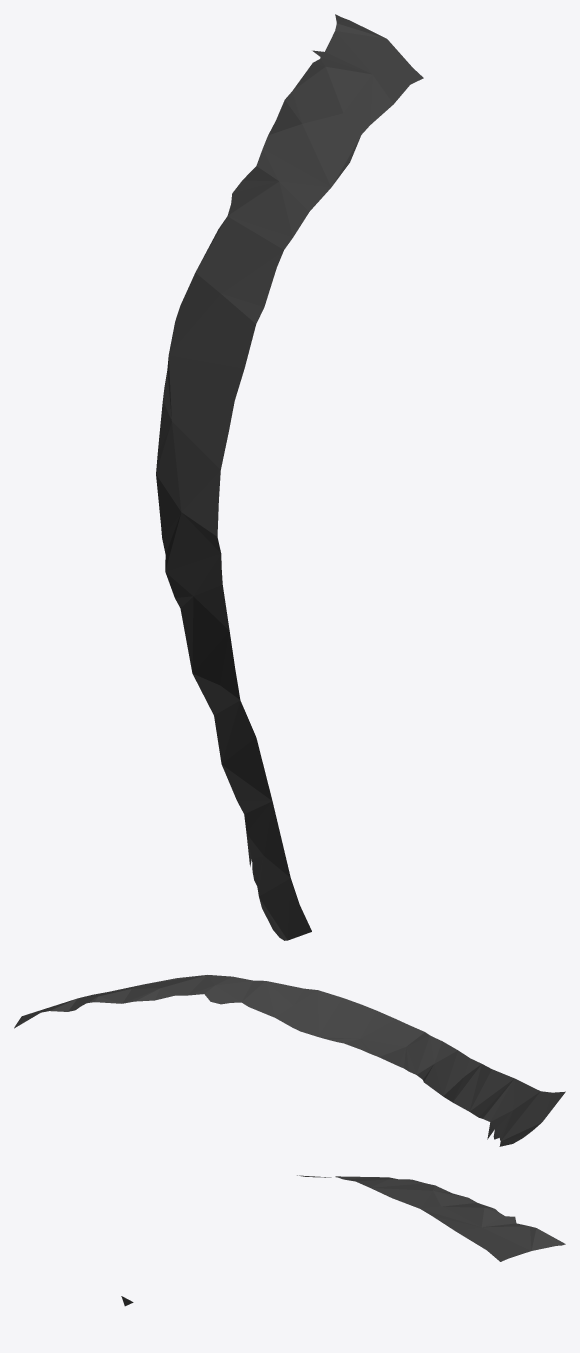
File: nerve_medial_palmar_comms_br.glb
The picture shows the model from 3 angles, top to bottom: view 1: azimuth 30°, elevation 25°; view 2: azimuth 150°, elevation 25°; view 3: azimuth 270°, elevation 25°; orthographic projection. The views are drawn at different scales.
Parts seen in each view (by area): view 1: nerve_medial_palmar_comms_br; view 2: nerve_medial_palmar_comms_br; view 3: nerve_medial_palmar_comms_br.
Boxes of the visible parts, left/top/right/bottom form: nerve_medial_palmar_comms_br: left=156, top=14, right=423, bottom=940; nerve_medial_palmar_comms_br: left=14, top=975, right=565, bottom=1146; nerve_medial_palmar_comms_br: left=121, top=1175, right=565, bottom=1306.
Size of the model in its own units: 0.0287 by 0.022 by 0.0457.
Materials: 1 (1 with a texture image).
